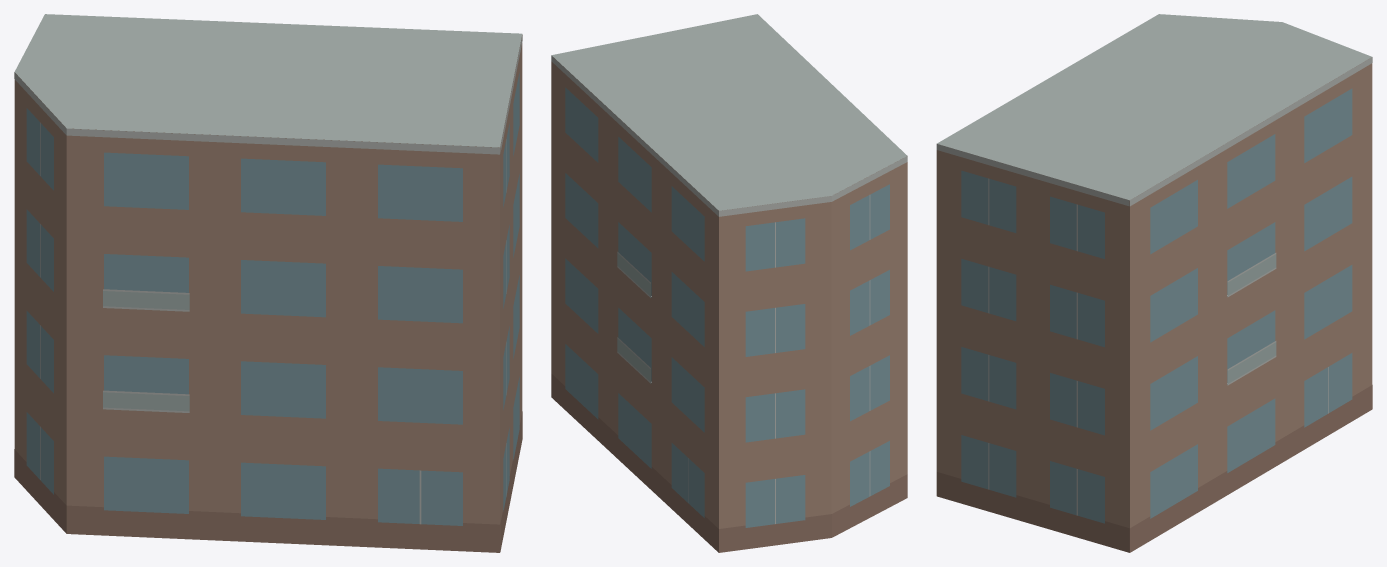
The model's file is survey-upis-32822430.glb.
3 renders of one model, left to right at view 1: azimuth 30°, elevation 25°; view 2: azimuth 150°, elevation 25°; view 3: azimuth 270°, elevation 25°, orthographic. The views are drawn at different scales.
Parts seen in each view (by area): view 1: survey-upis-32822430.tmp; view 2: survey-upis-32822430.tmp; view 3: survey-upis-32822430.tmp.
Part boxes in pixels (x1,y1,x2,y2): survey-upis-32822430.tmp: (14, 14, 522, 552); survey-upis-32822430.tmp: (551, 14, 907, 552); survey-upis-32822430.tmp: (936, 14, 1372, 552).
Bounding box in the file's own units: 15.76 × 13.9 × 15.58.
